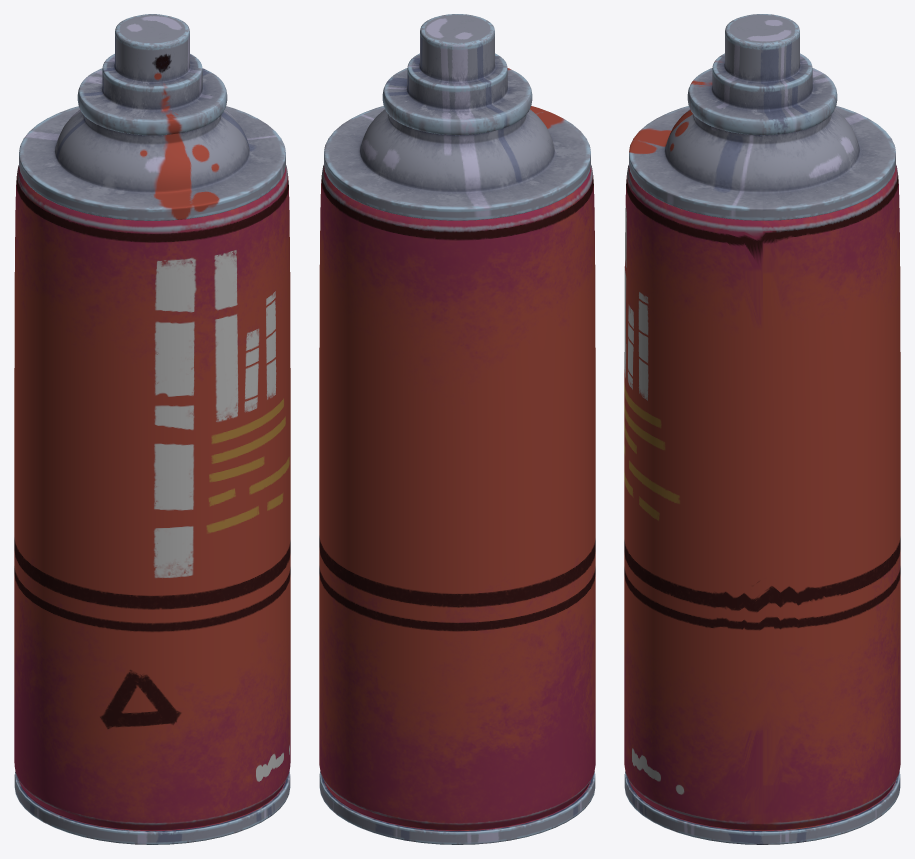
Rendered from Spray_Can_Textured.fbx.
3 views of the same model, side by side, from view 1: azimuth 30°, elevation 25°; view 2: azimuth 150°, elevation 25°; view 3: azimuth 270°, elevation 25° (orthographic).
Visible parts, largest first — view 1: sc_01; view 2: sc_01; view 3: sc_01.
Boxes of the visible parts, left/top/right/bottom form: sc_01: left=14, top=14, right=290, bottom=844; sc_01: left=319, top=14, right=595, bottom=844; sc_01: left=624, top=14, right=900, bottom=844.
Bounding box in the file's own units: 0.2623 × 0.7946 × 0.2623.
Materials: 1 (1 with a texture image).
